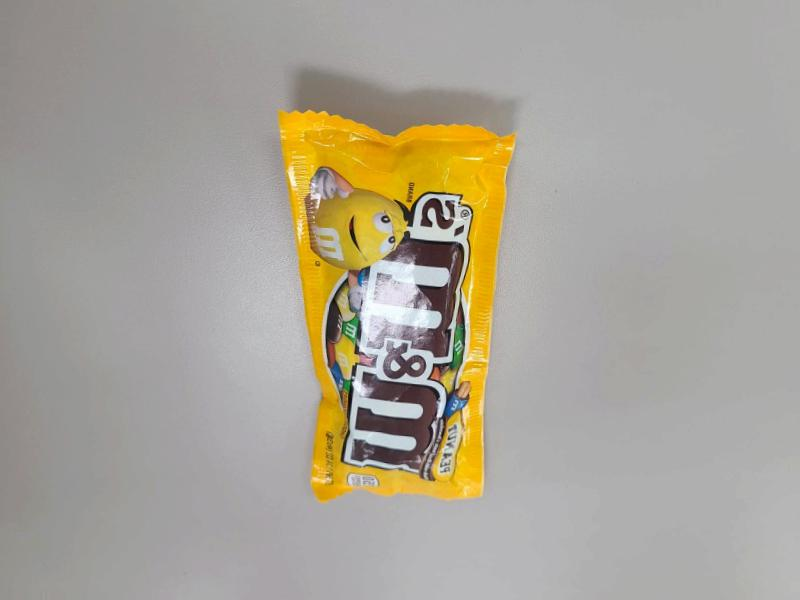m&m: (295, 150, 501, 493)
